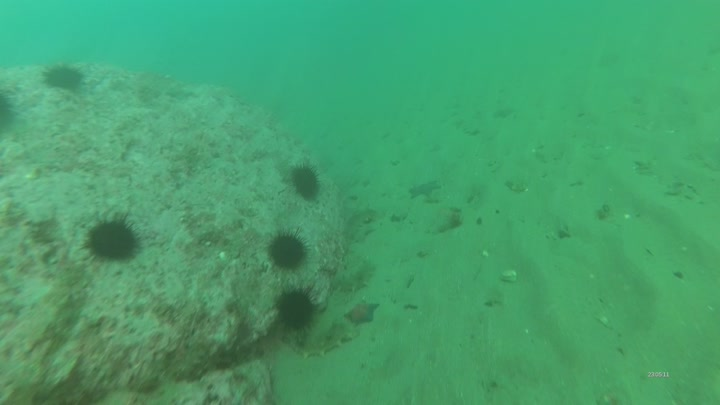echinus: (75, 214, 153, 267), (271, 286, 321, 336), (264, 230, 313, 275), (288, 163, 326, 204), (42, 63, 89, 92), (1, 88, 17, 140)
holothurian: (286, 321, 353, 362), (331, 260, 380, 295), (342, 208, 383, 246)
starfish: (343, 298, 382, 329), (409, 181, 444, 202)
